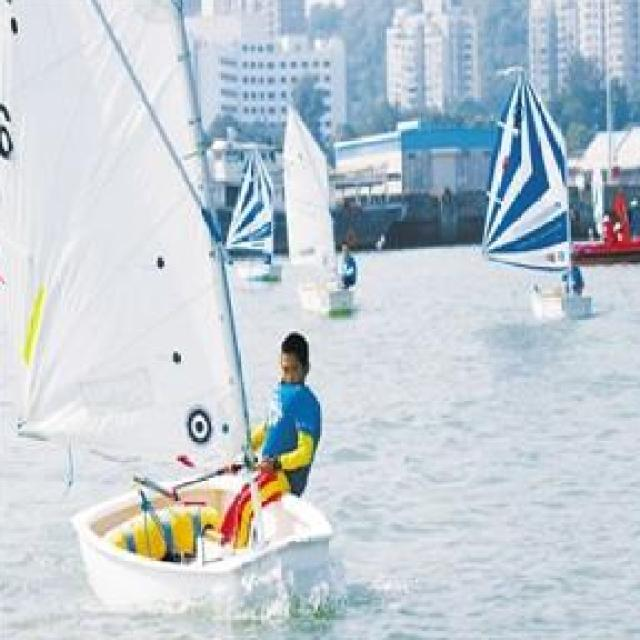sailboat: (0, 0, 336, 629), (442, 62, 600, 324), (255, 112, 371, 327)
